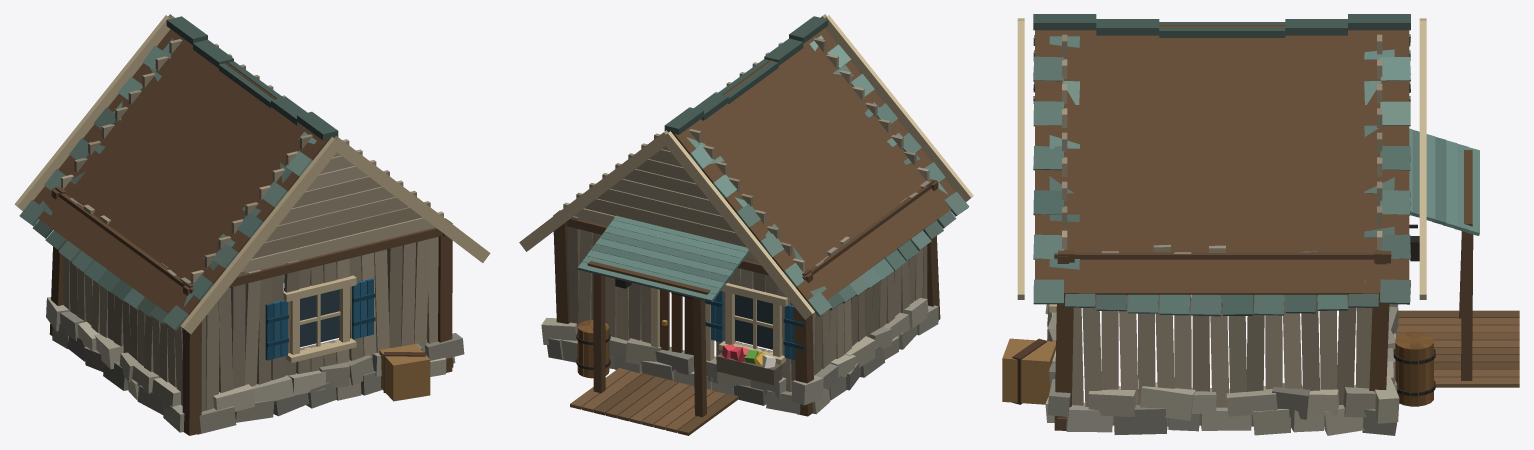
The model's file is cabana_2.glb.
3 views of the same model, side by side, from view 1: azimuth 30°, elevation 25°; view 2: azimuth 150°, elevation 25°; view 3: azimuth 270°, elevation 25° (orthographic). The views are drawn at different scales.
Visible parts, largest first — view 1: Madeira, Pedra, Telhado, Vidro; view 2: Madeira, Telhado, Pedra, Vidro; view 3: Madeira, Telhado, Pedra, Ferro.
Boxes of the visible parts, x1,y1,x2,y2 form: Madeira: (14,14,490,435); Pedra: (46,274,464,434); Telhado: (19,16,338,330); Vidro: (300,289,339,347); Madeira: (519,14,973,435); Telhado: (577,16,969,316); Pedra: (541,298,938,414); Vidro: (735,294,772,349); Madeira: (1002,18,1519,430); Telhado: (1033,14,1479,316); Pedra: (1045,304,1399,435); Ferro: (1393,224,1435,396).
Size of the model in its own units: 6.22 by 5.32 by 7.39.
